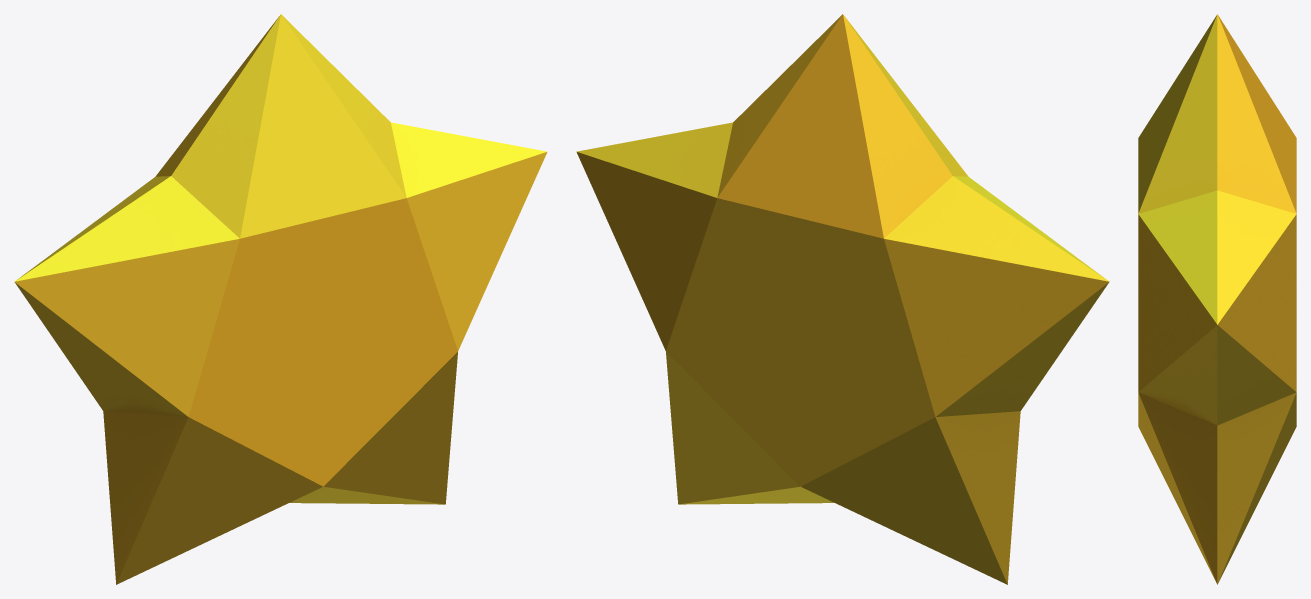
The model's file is Star.glb.
3 views of the same model, side by side, from view 1: azimuth 30°, elevation 25°; view 2: azimuth 150°, elevation 25°; view 3: azimuth 270°, elevation 25° (orthographic). The views are drawn at different scales.
Parts seen in each view (by area): view 1: star; view 2: star; view 3: star.
Part boxes in pixels (x1,y1,x2,y2): star: (14, 14, 547, 584); star: (576, 14, 1109, 584); star: (1138, 14, 1296, 584).
Bounding box in the file's own units: 1.9 × 1.81 × 0.5238.
Materials: 1 (1 with a texture image).
